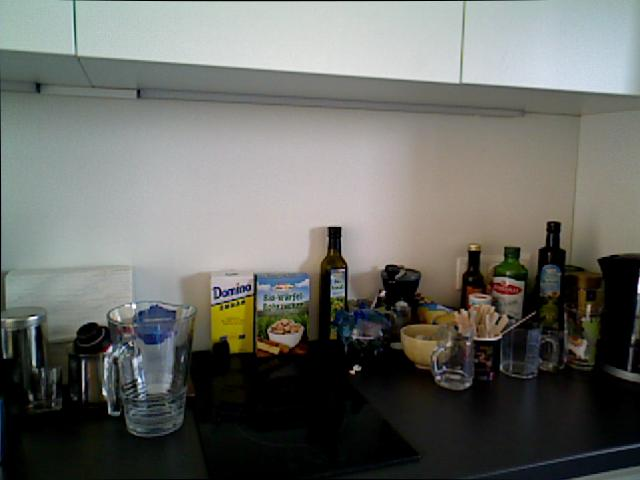bench: (318, 225, 348, 342), (491, 246, 526, 344), (535, 220, 566, 329), (459, 243, 487, 339)
bird: (399, 323, 455, 369), (266, 323, 304, 348)
handbag: (103, 298, 198, 437), (499, 323, 559, 378), (429, 327, 474, 390), (459, 325, 503, 383)
